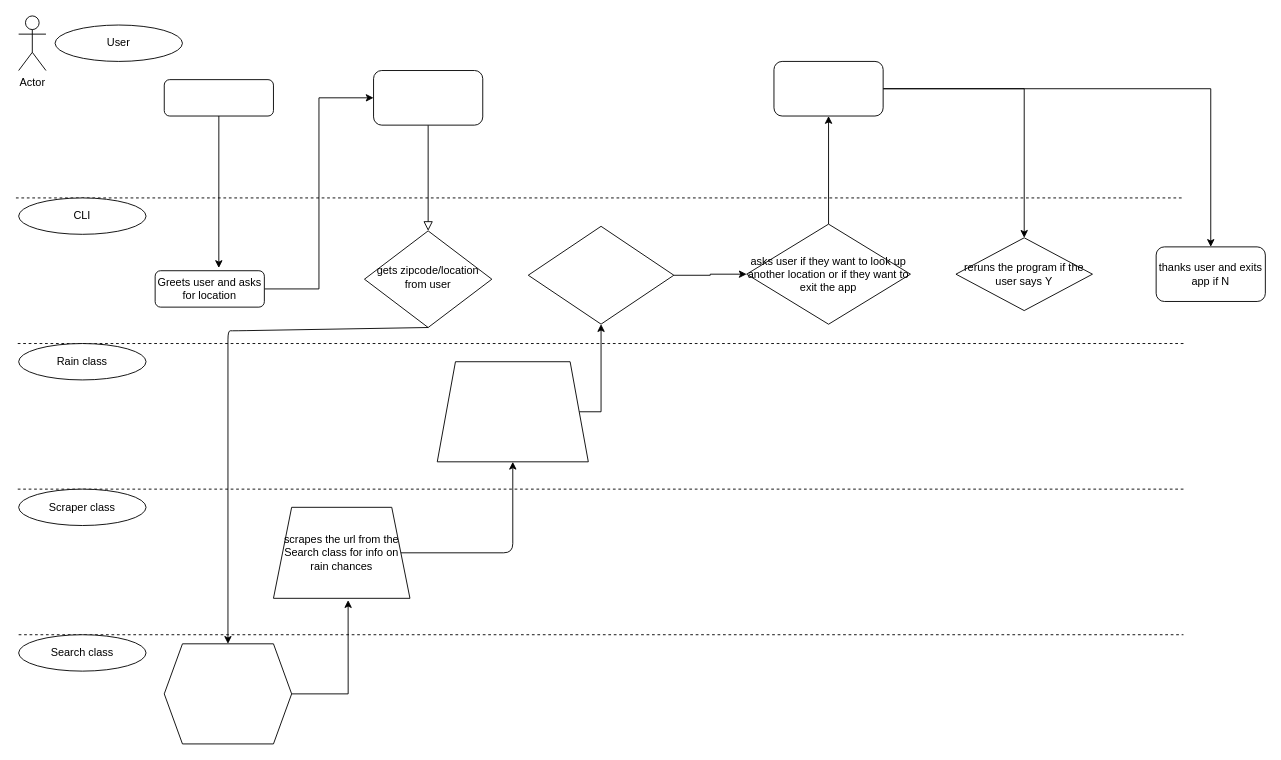
The diagram is 1281 pixels wide and 760 high, and some of its shapes have lost their labels. Each missing label, with the box of its shape:
gives user the rain chances for their location: (527, 225, 674, 324)
takes info from Scraper class and saves rain chances: (436, 361, 588, 462)
takes user's given location and searches for weather on website: (163, 643, 292, 744)
user inputs location: (373, 70, 483, 125)
user inputs Y/N: (773, 61, 883, 116)
User opens app: (163, 79, 273, 116)
